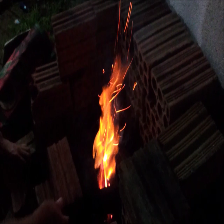fire_h: (93, 55, 131, 190)
fire_l: (124, 1, 132, 31), (117, 3, 121, 29), (133, 81, 137, 90), (106, 213, 113, 218)
